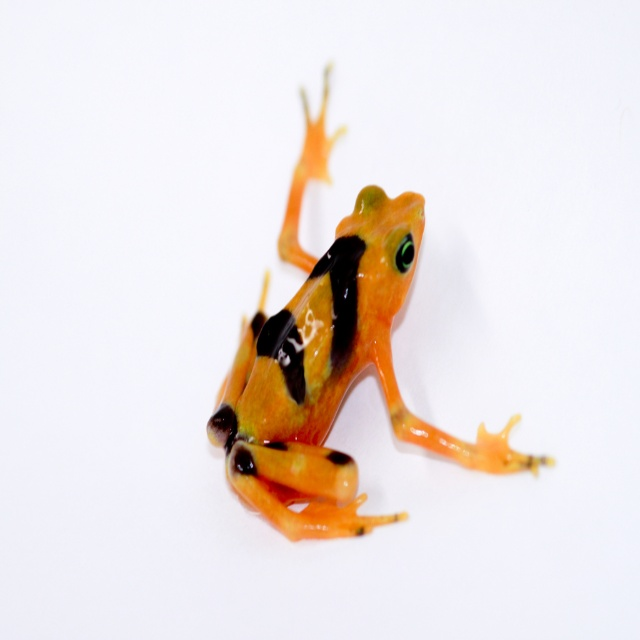Frog: (207, 63, 556, 542)
